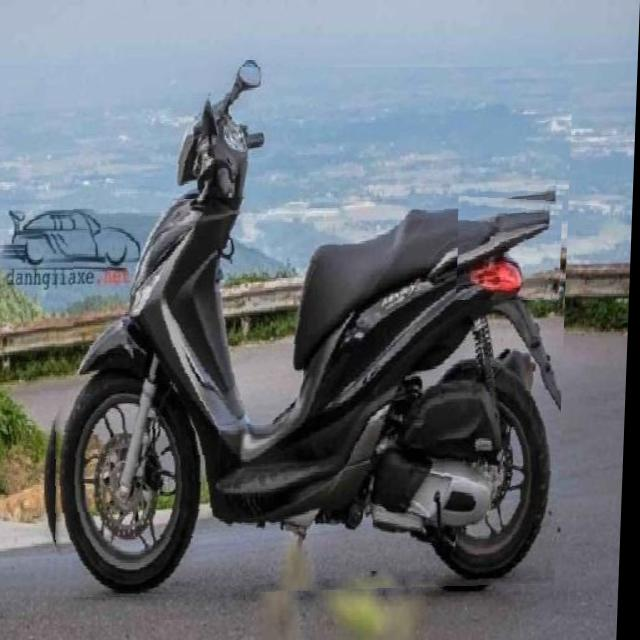All: (41, 67, 574, 598)
Head: (169, 96, 269, 200)
Tail: (457, 196, 564, 300)
